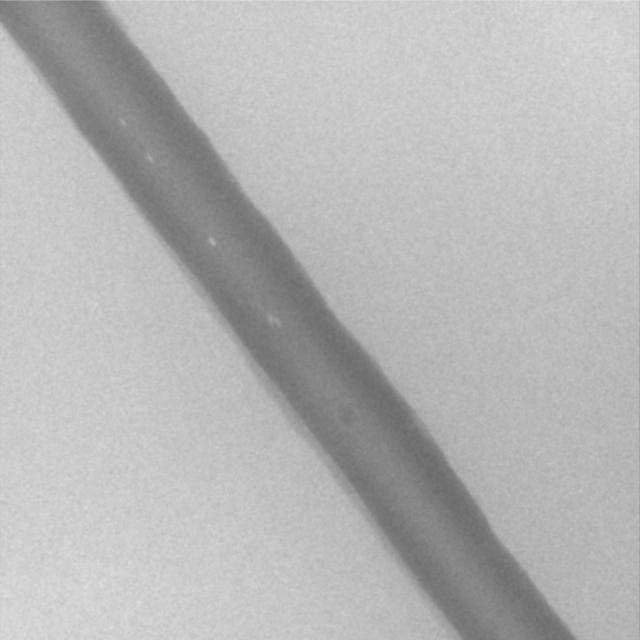air hole: (206, 235, 217, 249), (146, 150, 155, 165), (120, 118, 128, 129)
